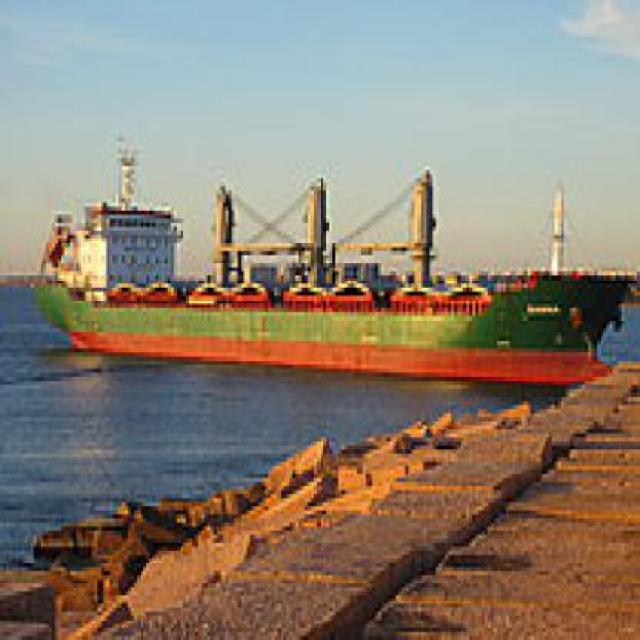container: (26, 122, 638, 394)
